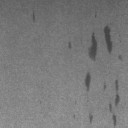red iron: (103, 24, 112, 54), (88, 34, 98, 61), (114, 80, 120, 106), (84, 72, 92, 91), (112, 114, 116, 128), (32, 12, 35, 22), (90, 114, 93, 124), (118, 54, 122, 60), (109, 104, 112, 112), (68, 41, 71, 48)
